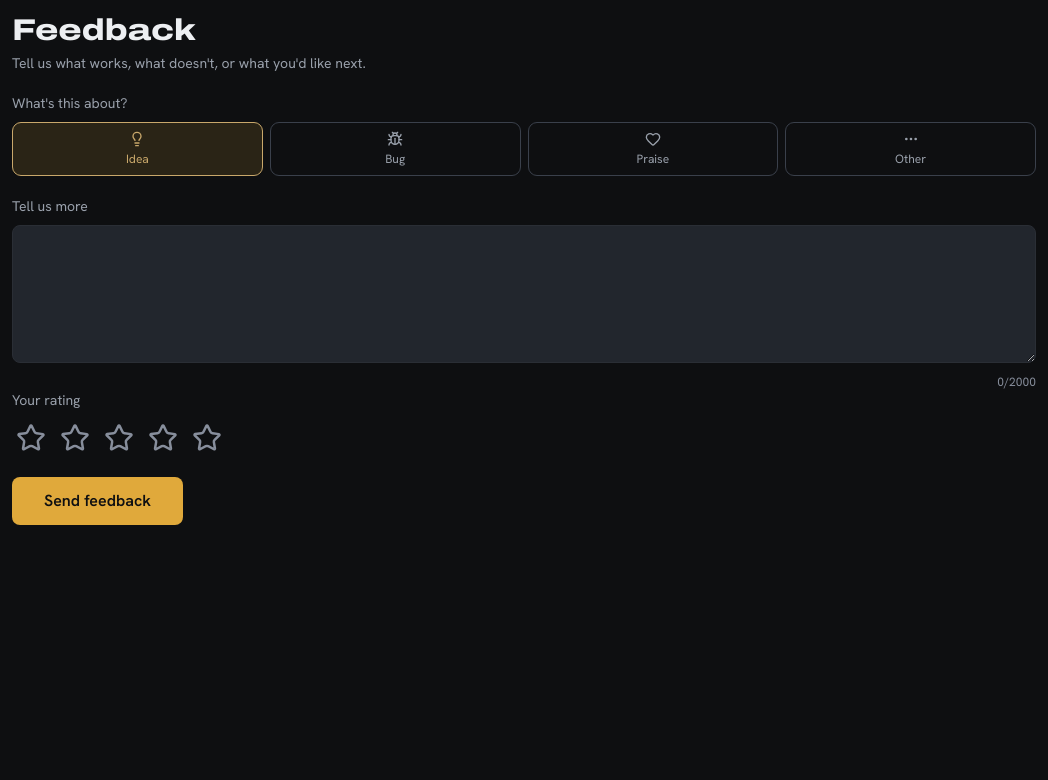
Test case: refuses an instant submit even with valid fields
Click the button named "rate 5" at (207, 438), box top-left (188, 419), bottom-right (226, 457)
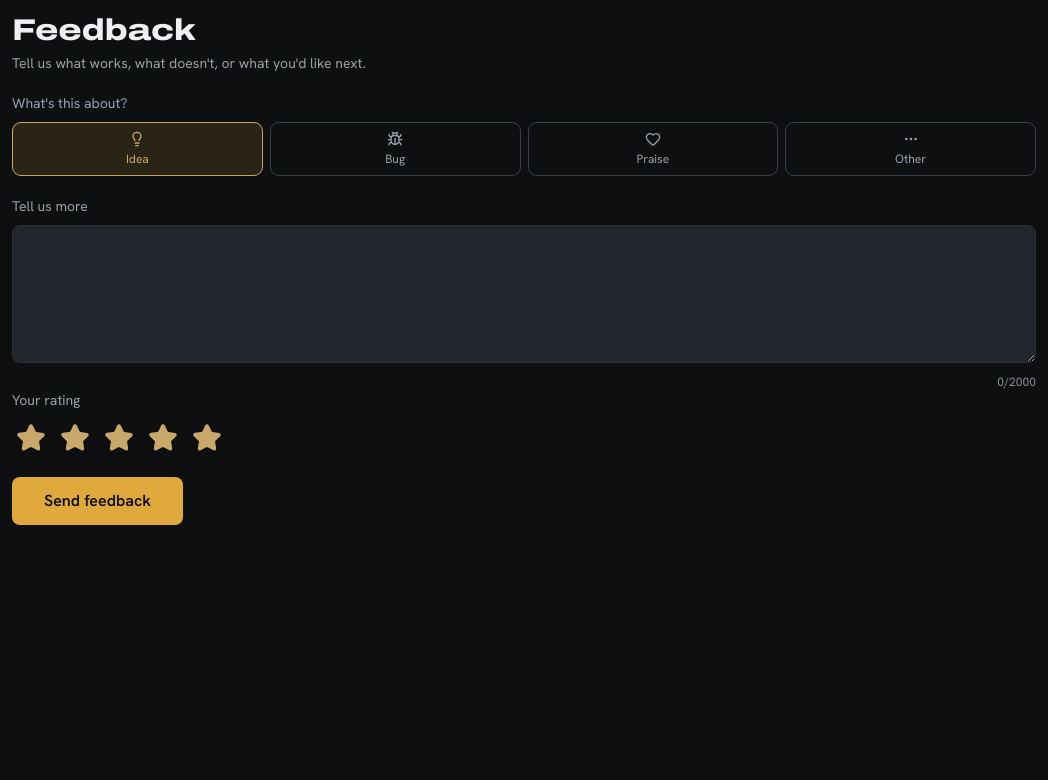
Type "Really useful" into the text box labelled "Tell us more" at (524, 294), box top-left (12, 225), bottom-right (1036, 363)
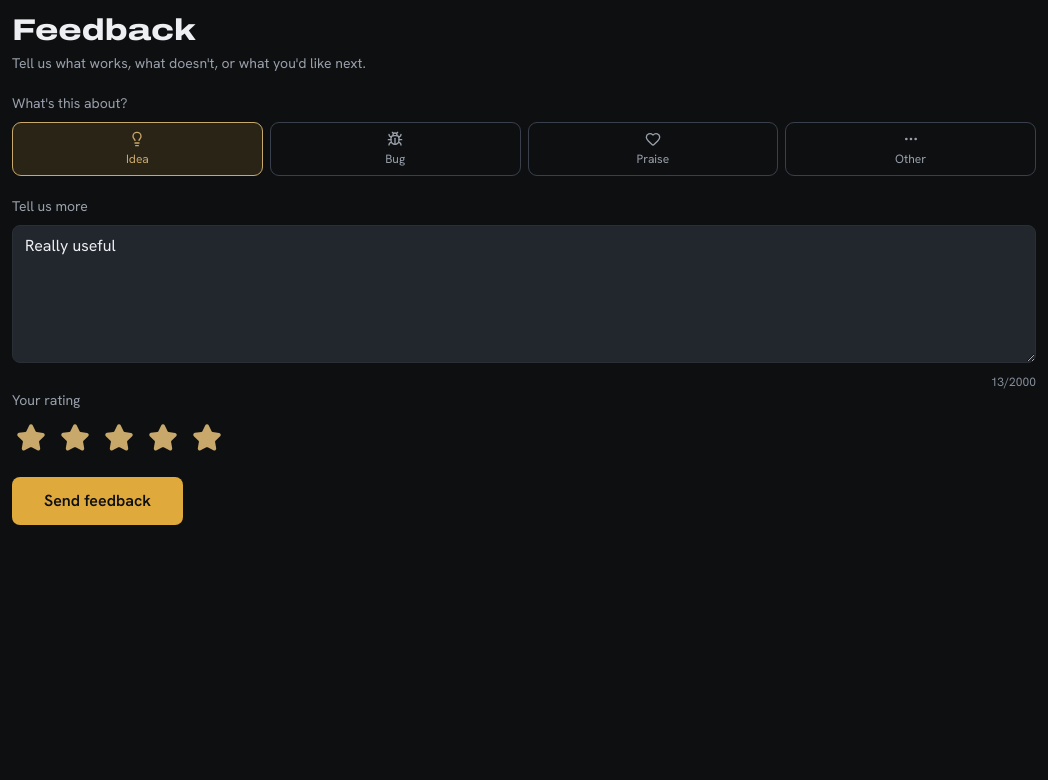
Click the button "Send feedback" at (98, 501), box top-left (12, 477), bottom-right (183, 525)
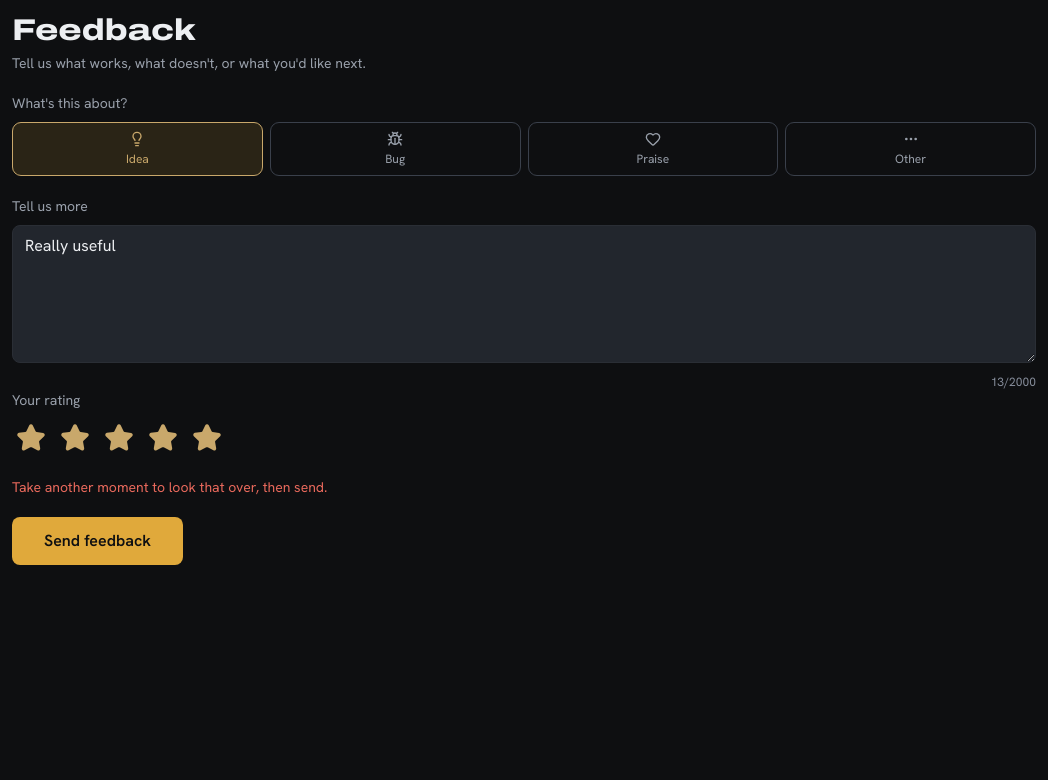
Result: the text "Take another moment to look that over, then send." is shown at top-left (12, 478), bottom-right (328, 496)
